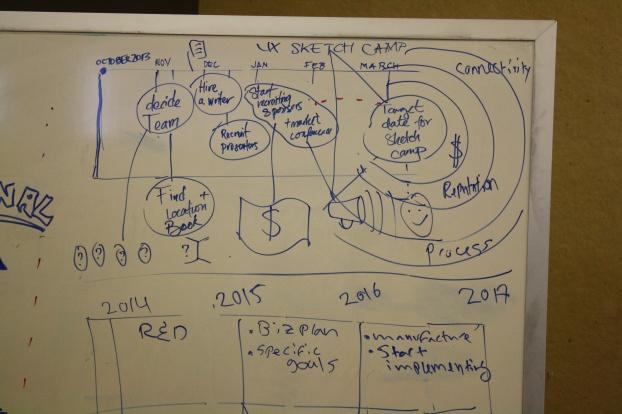Whiteboard: (0, 10, 559, 413)
